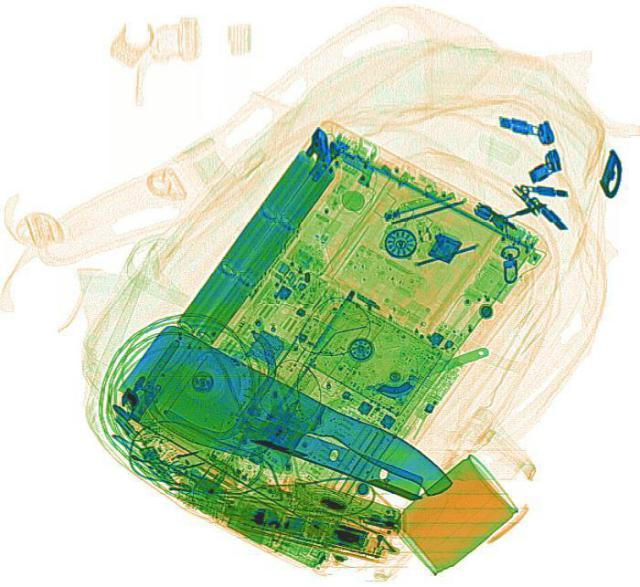Knife: (112, 317, 460, 544)
